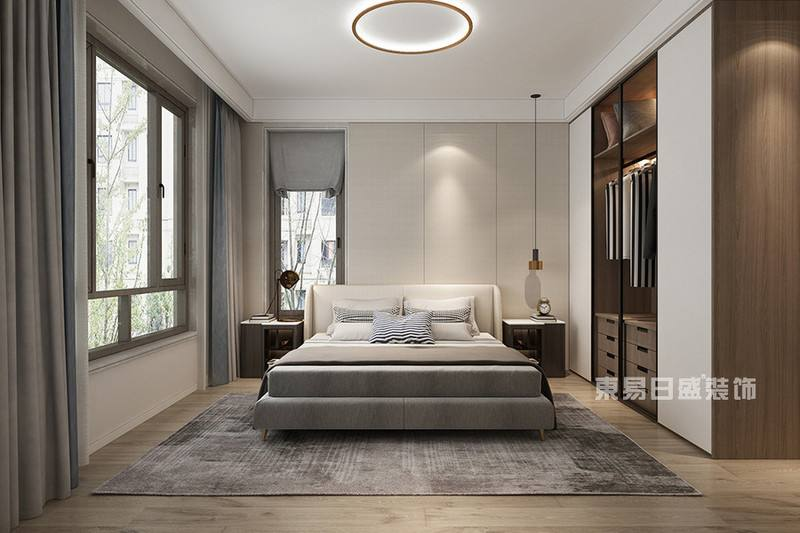床: (258, 332, 545, 443)
枕头: (325, 298, 480, 351)
灯: (343, 4, 478, 60), (523, 89, 547, 296), (252, 265, 298, 319)
